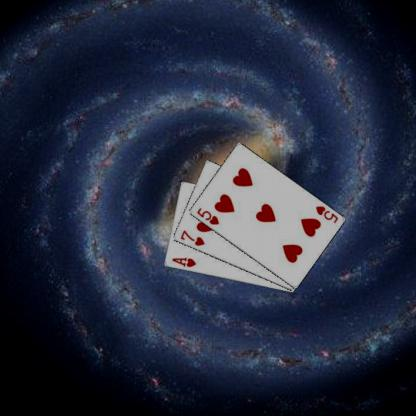5H: (194, 205, 220, 226), (313, 203, 339, 224)
7H: (178, 228, 206, 247)
AH: (169, 255, 197, 269)
